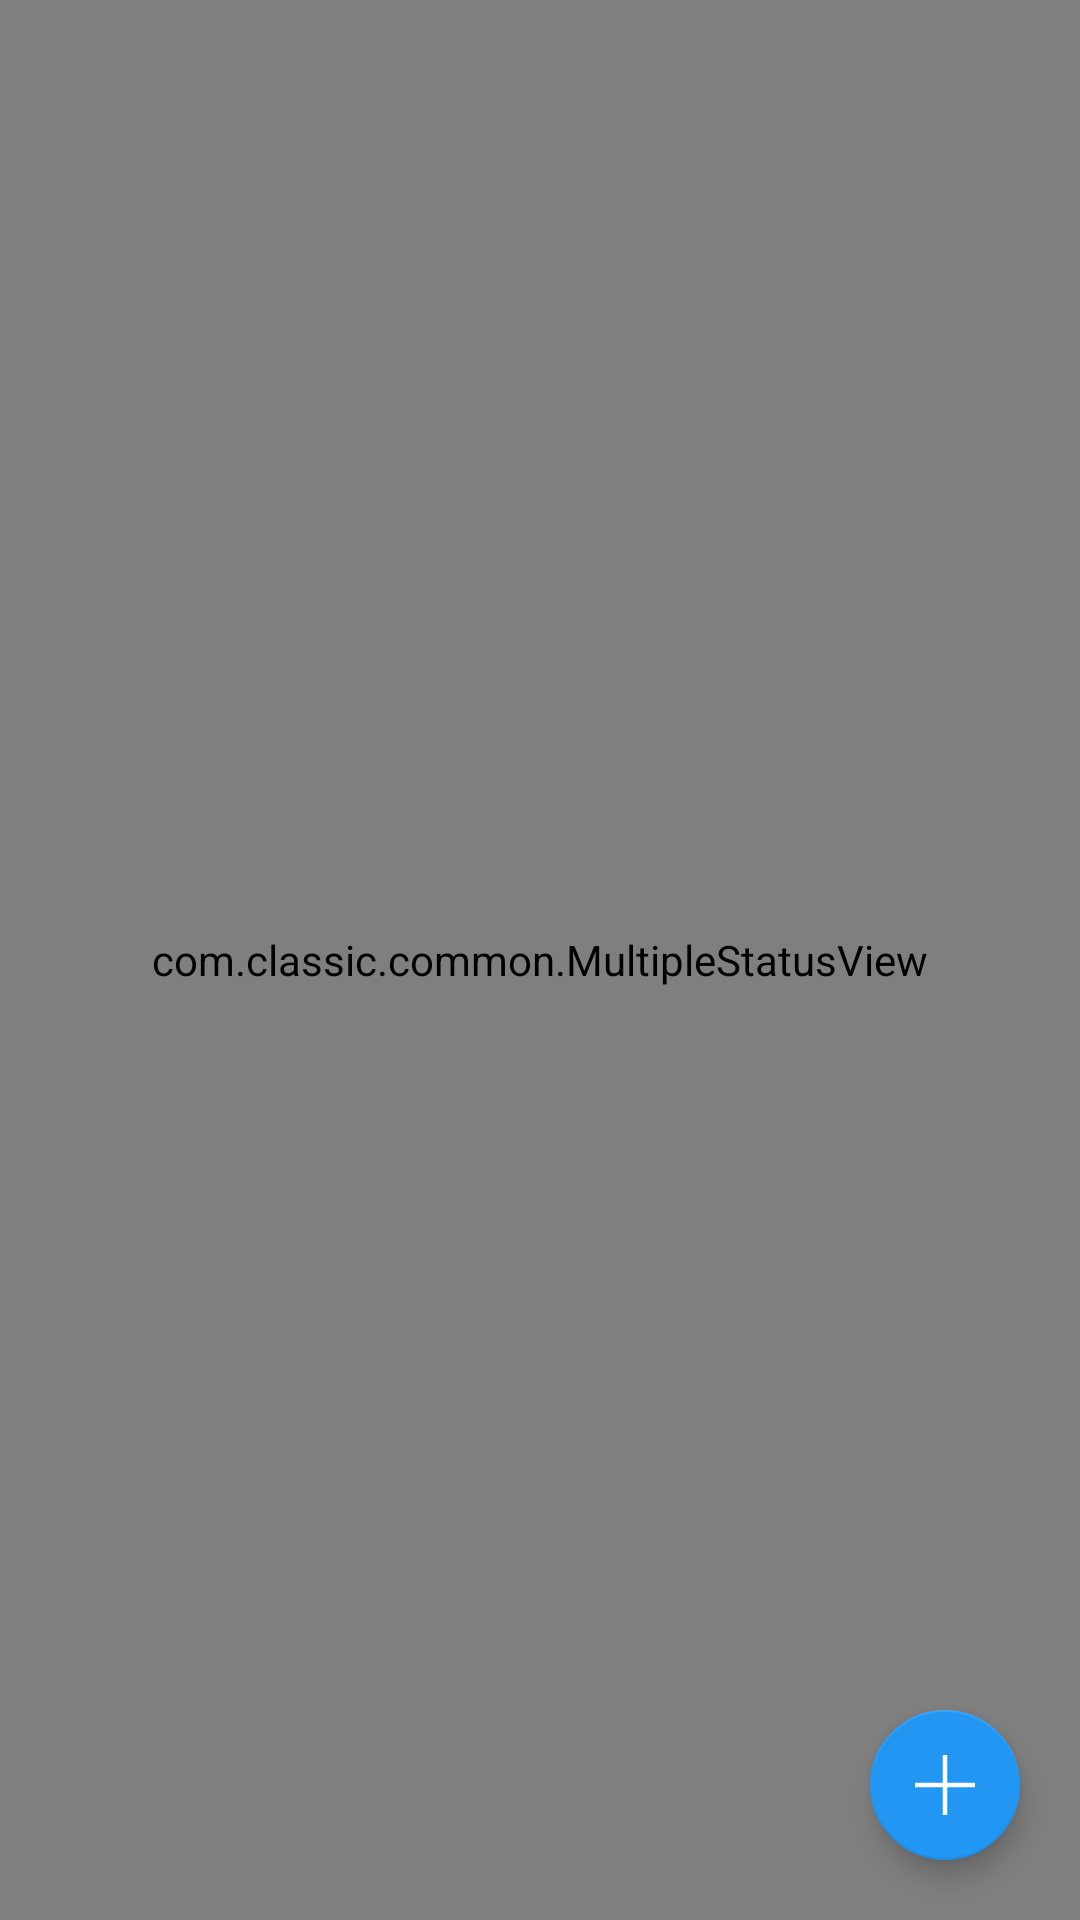

Point at icon controls on the screen. Image size 1080w x 1920h, points as (x=x, y=y).
add: (x=945, y=1785)
